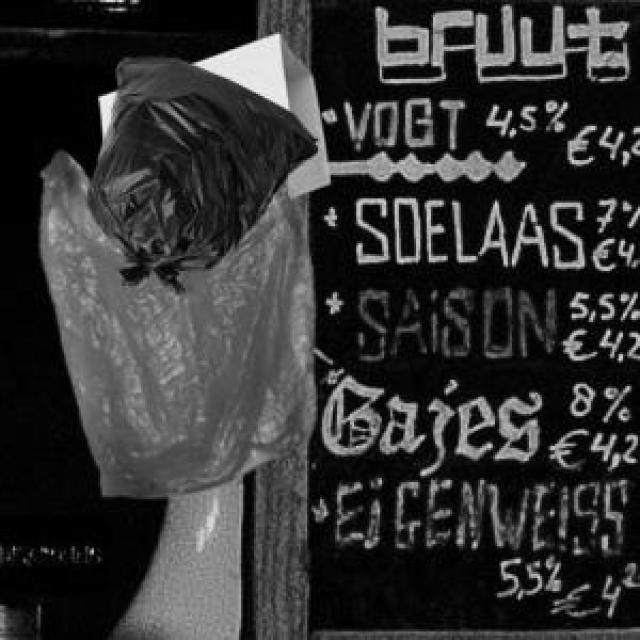miscellaneous trash: (83, 53, 314, 290)
paper: (175, 30, 326, 192)
